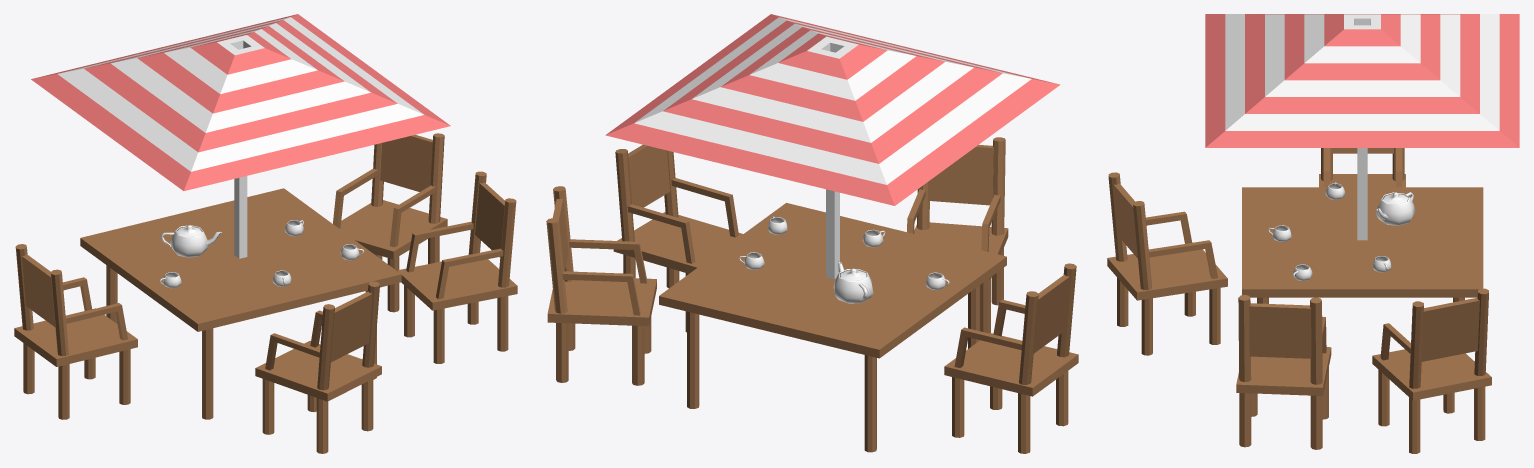
Rendered from 17 Table_Chair_Group.FBX.
3 renders of one model, left to right at view 1: azimuth 30°, elevation 25°; view 2: azimuth 150°, elevation 25°; view 3: azimuth 270°, elevation 25°, orthographic. The views are drawn at different scales.
Parts seen in each view (by area): view 1: Umbrella001, Table001, Chair_007, Chair_006, Chair_008, Chair_005, Teapot001; view 2: Umbrella001, Table001, Chair_008, Chair_005, Chair_006, Chair_007, Teapot001; view 3: Umbrella001, Table001, Chair_005, Chair_006, Chair_007, Chair_008, Teapot001.
Boxes of the visible parts, left/top/right/bottom form: Umbrella001: left=31, top=14, right=450, bottom=258; Table001: left=80, top=188, right=401, bottom=419; Chair_007: left=255, top=281, right=381, bottom=453; Chair_006: left=396, top=171, right=517, bottom=363; Chair_008: left=14, top=244, right=137, bottom=419; Chair_005: left=333, top=133, right=447, bottom=312; Teapot001: left=160, top=225, right=221, bottom=257; Umbrella001: left=605, top=14, right=1060, bottom=279; Table001: left=659, top=203, right=1006, bottom=452; Chair_008: left=944, top=263, right=1078, bottom=453; Chair_005: left=546, top=186, right=656, bottom=385; Chair_006: left=613, top=144, right=742, bottom=332; Chair_007: left=907, top=137, right=1008, bottom=333; Teapot001: left=833, top=261, right=873, bottom=303; Umbrella001: left=1205, top=14, right=1519, bottom=240; Table001: left=1242, top=187, right=1483, bottom=303; Chair_005: left=1372, top=288, right=1491, bottom=453; Chair_006: left=1236, top=295, right=1331, bottom=449; Chair_007: left=1107, top=172, right=1227, bottom=355; Chair_008: left=1319, top=148, right=1405, bottom=187; Teapot001: left=1376, top=192, right=1415, bottom=225.
Size of the model in its own units: 1722 by 1189 by 1366.
